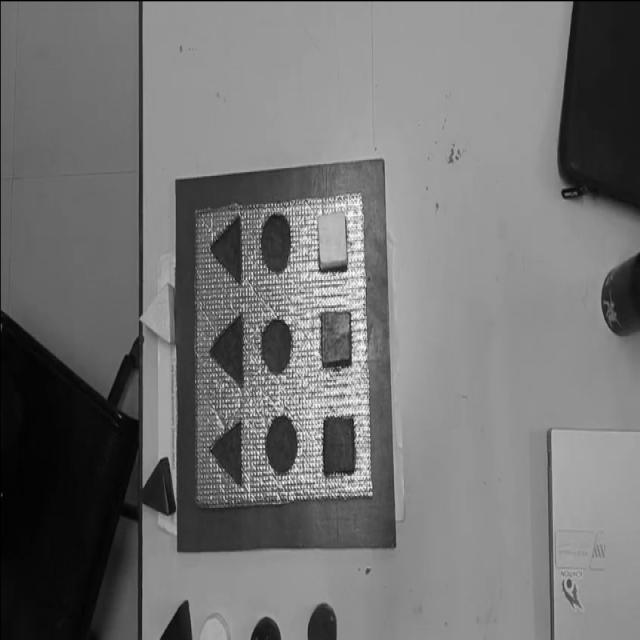bcircle: (250, 616, 282, 639)
bcube: (322, 414, 357, 476)
btriangle: (162, 600, 193, 639)
mtcircle: (265, 412, 299, 476), (260, 212, 292, 273), (261, 317, 292, 374)
mttriangle: (208, 312, 245, 390), (209, 417, 244, 487), (209, 214, 243, 286)
rcube: (321, 308, 353, 369)
rtriangle: (143, 458, 178, 516)
wb: (192, 191, 373, 510)
ycube: (317, 210, 349, 273)
ytriangle: (138, 284, 175, 347)
